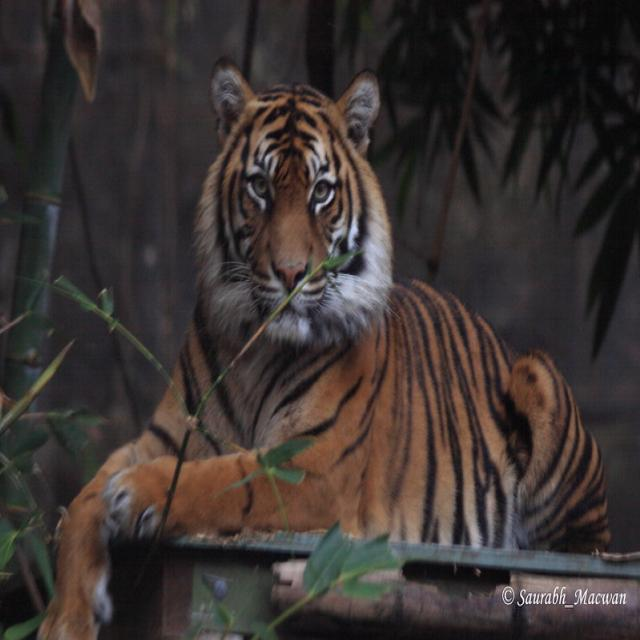Tiger: (36, 53, 610, 636)
